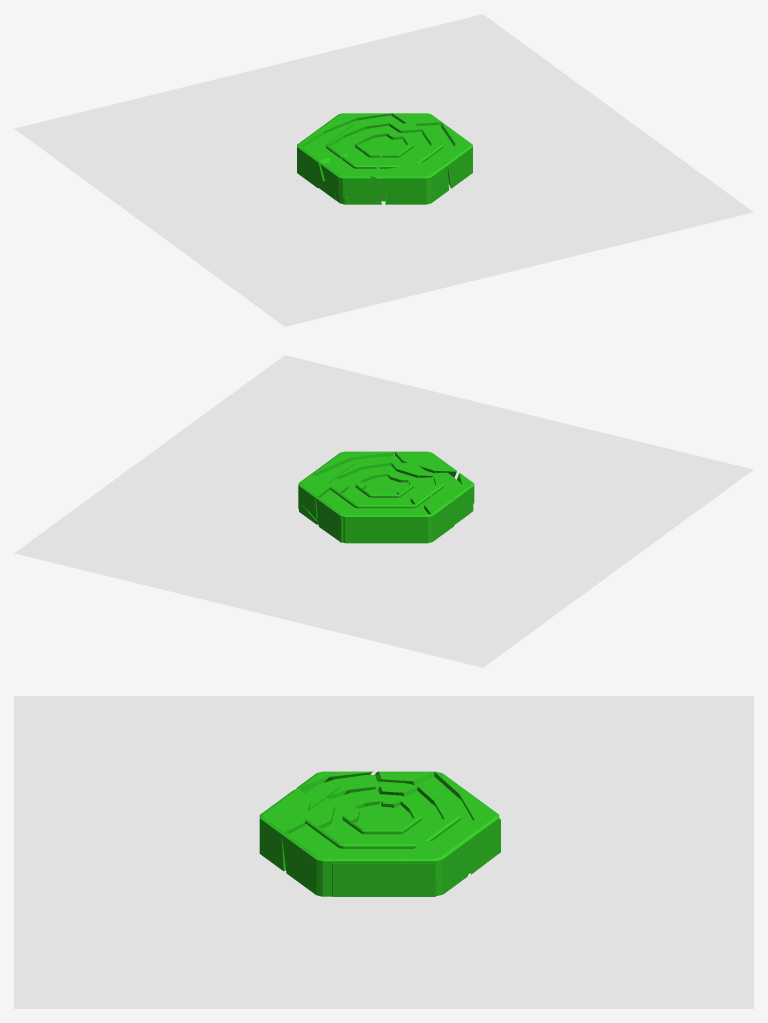
The model's file is LayerObstacle.fbx.
The picture shows the model from 3 angles, top to bottom: view 1: azimuth 30°, elevation 25°; view 2: azimuth 150°, elevation 25°; view 3: azimuth 270°, elevation 25°; orthographic projection. The views are drawn at different scales.
Parts seen in each view (by area): view 1: Shadow (×3), Model (×2), HexGib09, HexGib06, HexGib01, HexGib05, HexGib04; view 2: Shadow (×3), HexGib04 (×2), Model, HexGib05, HexGib09, HexGib02, HexGib01; view 3: Shadow (×2), Model (×2), HexGib01 (×2), HexGib09 (×2), HexGib04 (×2), HexGib02, HexGib05, HexGib06.
Part boxes in pixels (x1,y1,x2,y2): Shadow (×3): (14, 14, 753, 326); Model (×2): (304, 115, 454, 201); HexGib09: (374, 162, 448, 204); HexGib06: (320, 162, 381, 197); HexGib01: (441, 122, 472, 188); HexGib05: (297, 146, 329, 187); HexGib04: (297, 113, 391, 146); Shadow (×3): (14, 355, 753, 667); HexGib04 (×2): (315, 493, 432, 543); Model: (298, 456, 469, 542); HexGib05: (424, 497, 458, 541); HexGib09: (394, 451, 456, 477); HexGib02: (298, 474, 331, 518); HexGib01: (310, 451, 394, 475); Shadow (×2): (14, 696, 753, 1008); Model (×2): (289, 775, 500, 896); HexGib01 (×2): (281, 827, 405, 896); HexGib09 (×2): (259, 788, 335, 871); HexGib04 (×2): (417, 771, 499, 874); HexGib02: (404, 840, 466, 882); HexGib05: (375, 771, 434, 785); HexGib06: (296, 771, 373, 793).
Size of the model in its own units: 6.1 by 0.3461 by 6.1.
